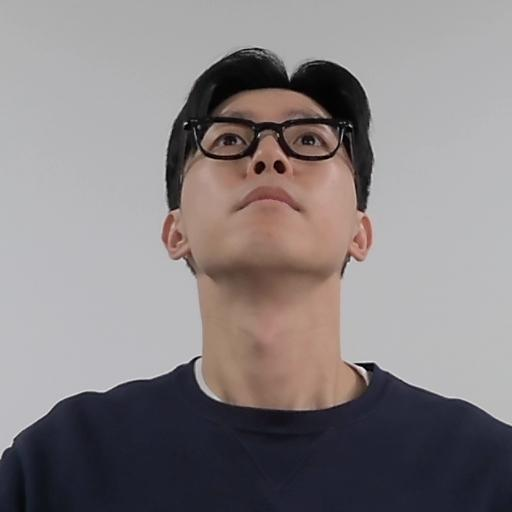no_glasses: (154, 39, 392, 317)
